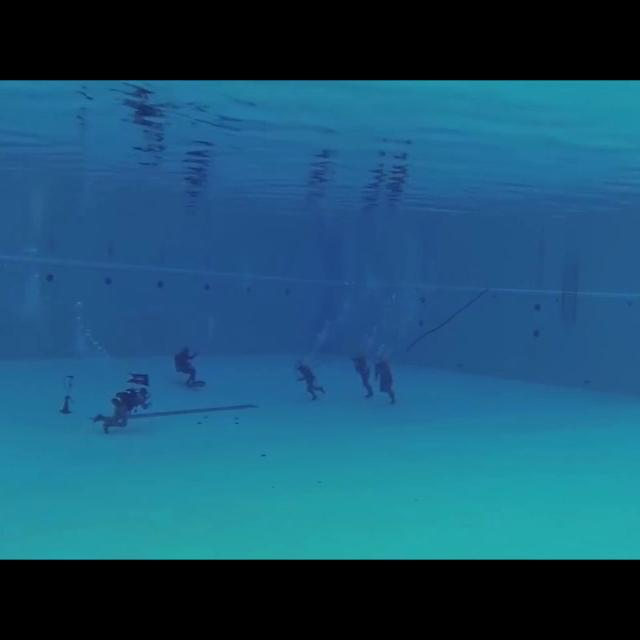human: (87, 365, 155, 437), (289, 351, 331, 406), (169, 338, 210, 392), (371, 348, 404, 412), (344, 346, 376, 400)
